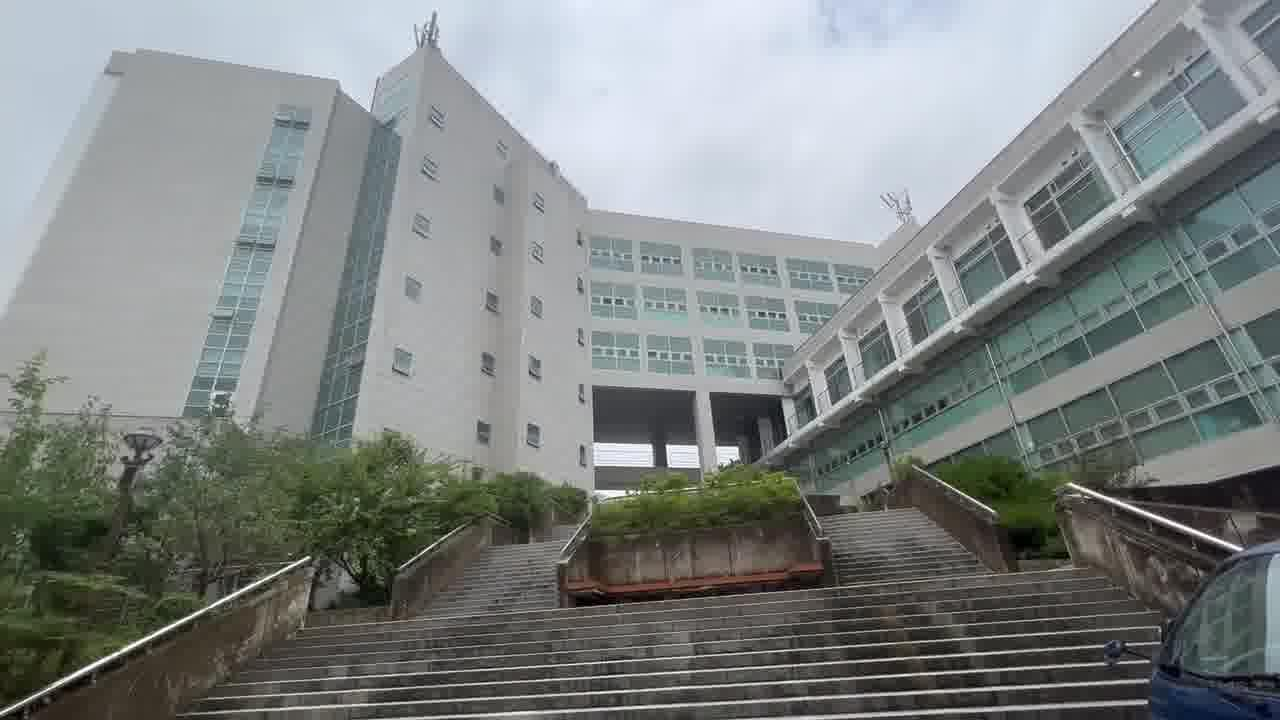building: (68, 77, 850, 420)
